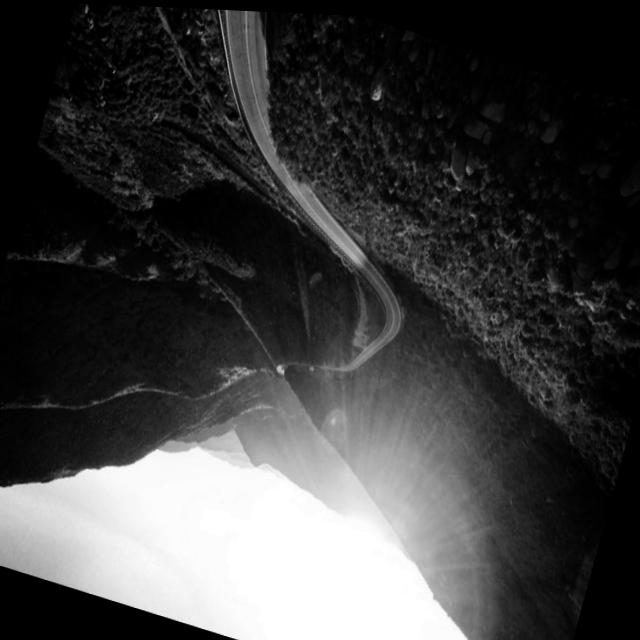cleat: (117, 8, 485, 463)
